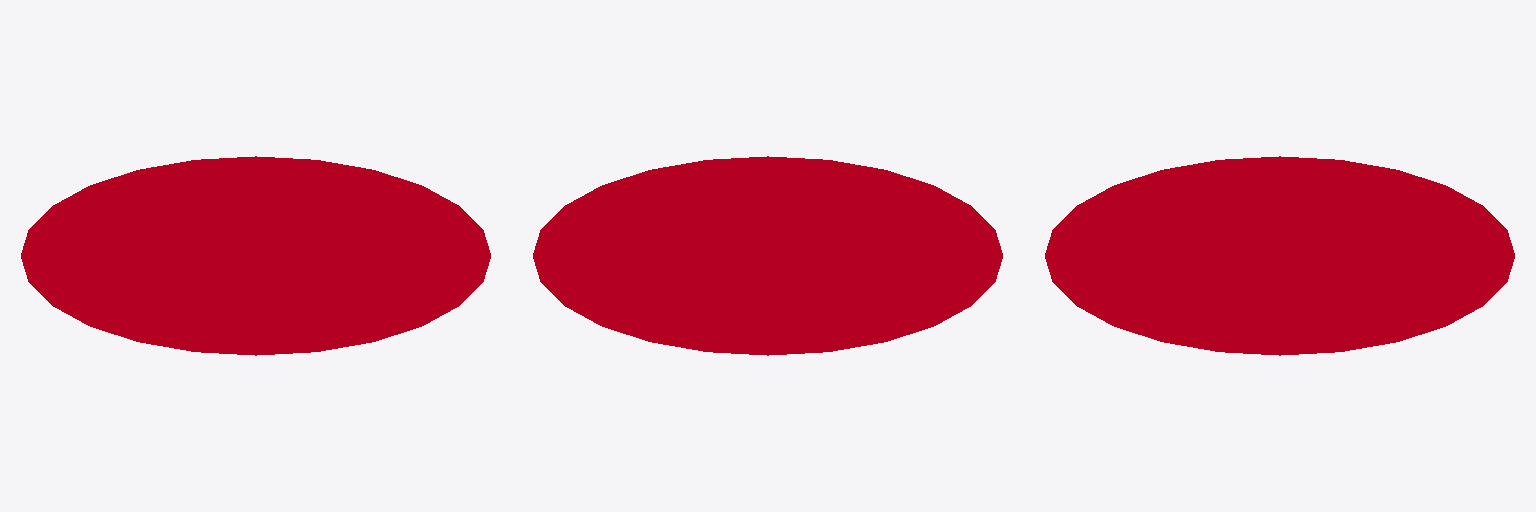
The model's file is red_switch.obj.
3 renders of one model, left to right at view 1: azimuth 30°, elevation 25°; view 2: azimuth 150°, elevation 25°; view 3: azimuth 270°, elevation 25°, orthographic.
Parts seen in each view (by area): view 1: pDisc1; view 2: pDisc1; view 3: pDisc1.
Boxes of the visible parts, box(x1,y1,x2,y2) form: pDisc1: box(21, 156, 490, 355); pDisc1: box(533, 156, 1002, 355); pDisc1: box(1045, 156, 1514, 355).
Bounding box in the file's own units: 2 × 0 × 2.